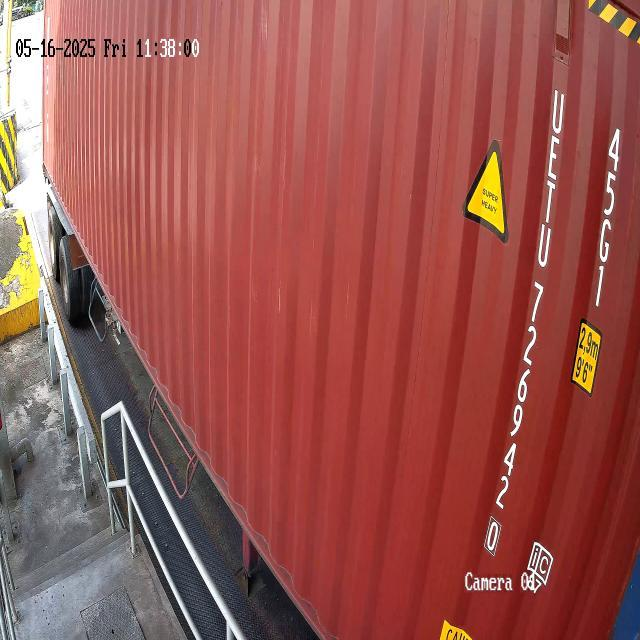ISO: (592, 126, 628, 308)
container_number: (469, 82, 576, 590)
